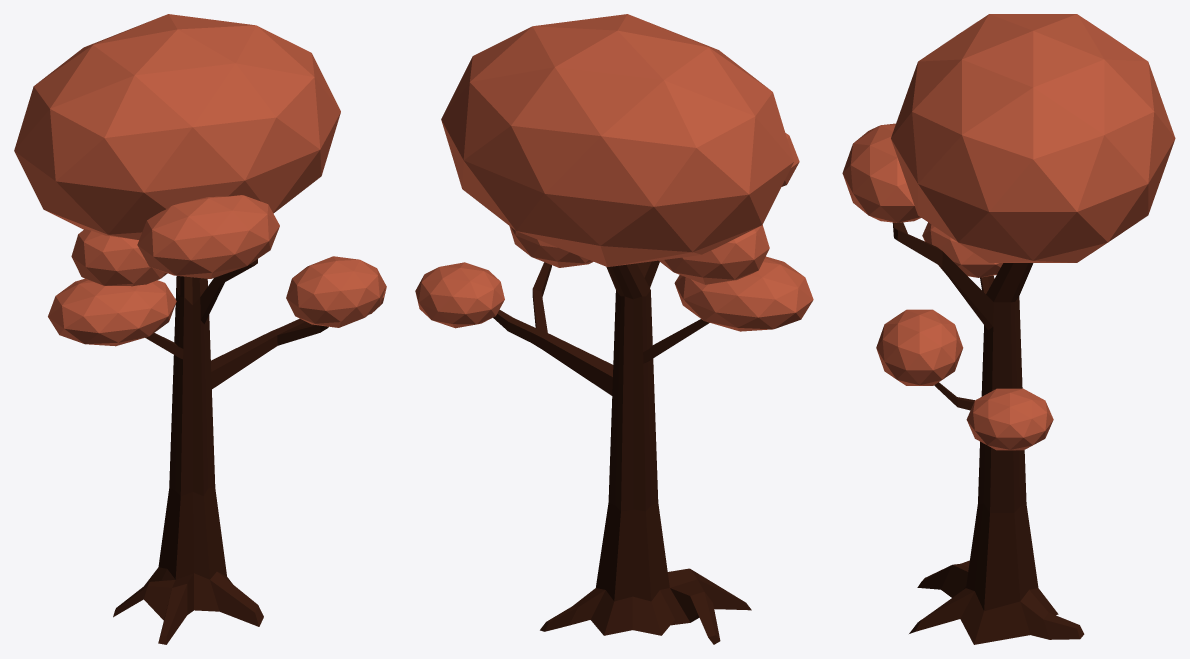
The model's file is Arvore.fbx.
3 views of the same model, side by side, from view 1: azimuth 30°, elevation 25°; view 2: azimuth 150°, elevation 25°; view 3: azimuth 270°, elevation 25° (orthographic). The views are drawn at different scales.
Parts seen in each view (by area): view 1: Icosphere.004; view 2: Icosphere.004; view 3: Icosphere.004.
Boxes of the visible parts, bbox=[...] form: Icosphere.004: bbox=[14, 14, 386, 644]; Icosphere.004: bbox=[415, 14, 813, 644]; Icosphere.004: bbox=[842, 14, 1175, 644].
Bounding box in the file's own units: 678 × 1071 × 545.
